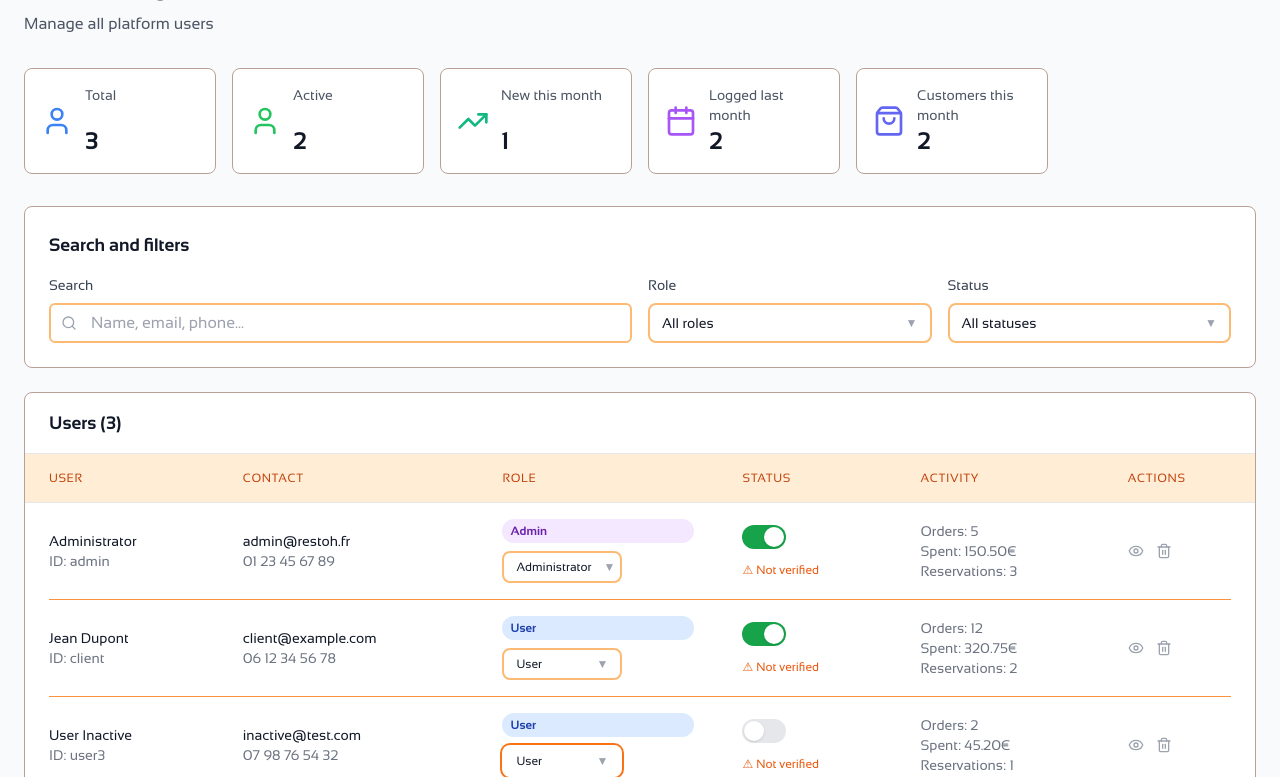
UsersManagement Component › User Actions › should open user details modal when eye icon is clicked
(page scrolled)
// Click on first "View details" button
Click the button titled "View details" in the row of "admin@restoh.fr". click: (1136,551)
box: [1128, 543, 1144, 559]
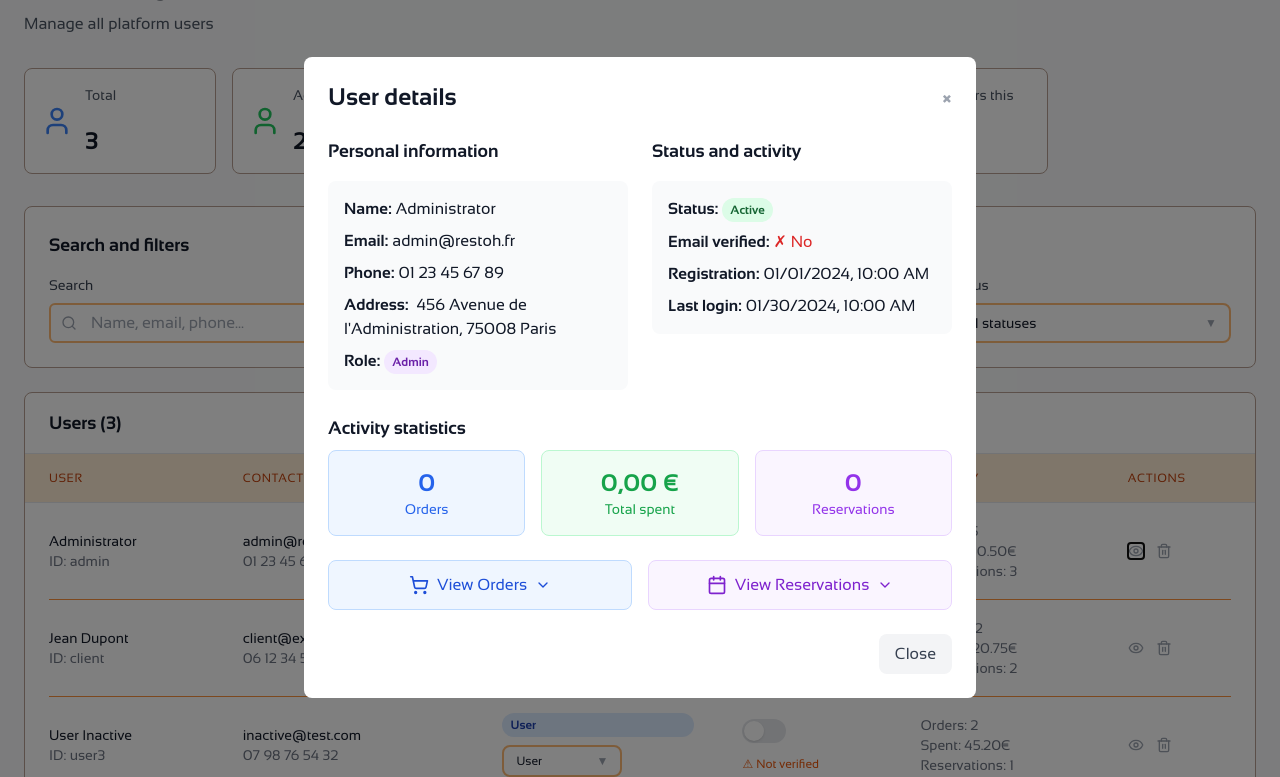
Expected: the heading "Personal information" is shown, [328, 140, 499, 160]
